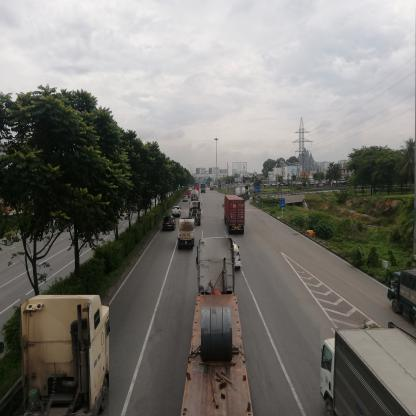car: (164, 217, 177, 232), (174, 207, 182, 215), (185, 196, 190, 202)
container: (21, 296, 111, 416), (194, 238, 243, 416), (225, 196, 248, 240), (191, 203, 203, 218)
truck: (321, 329, 416, 416), (389, 267, 416, 324), (180, 220, 195, 248), (235, 186, 252, 198), (191, 192, 202, 202)
